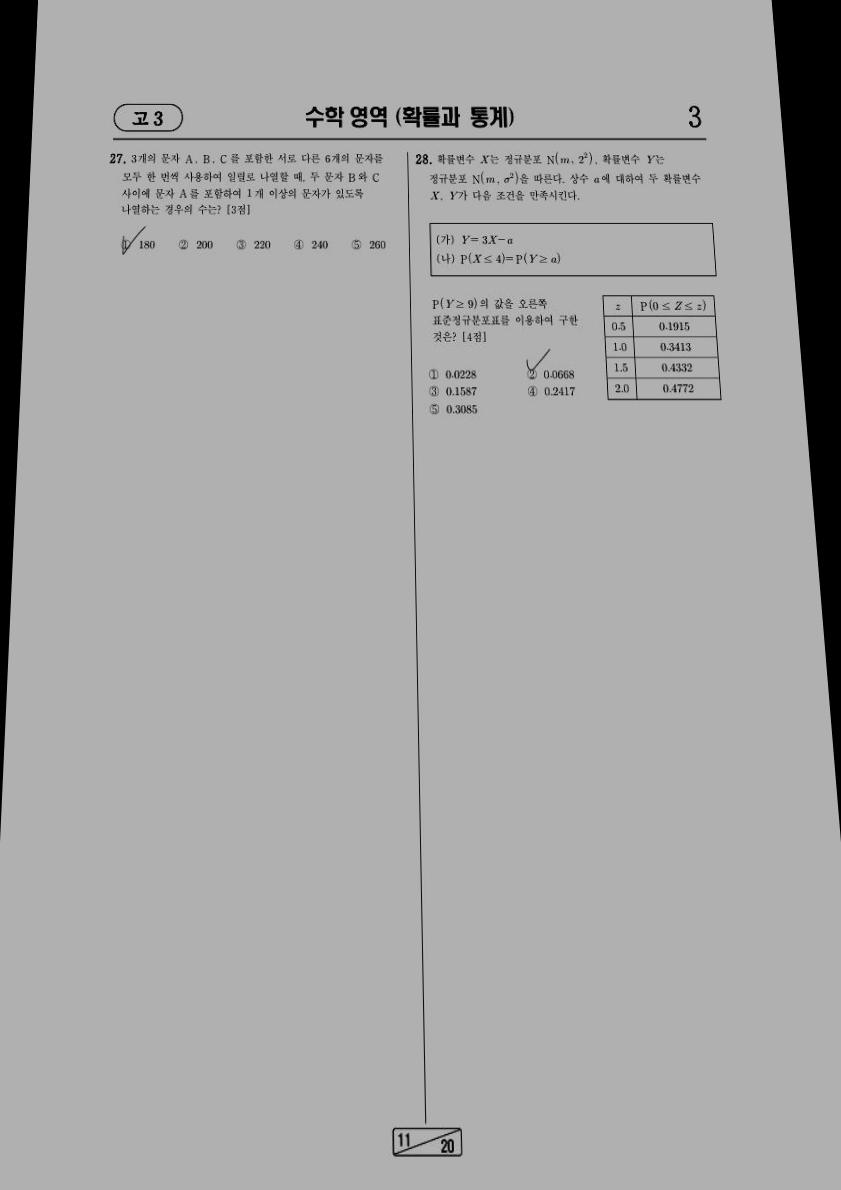question: (405, 141, 735, 430), (96, 142, 401, 279)
